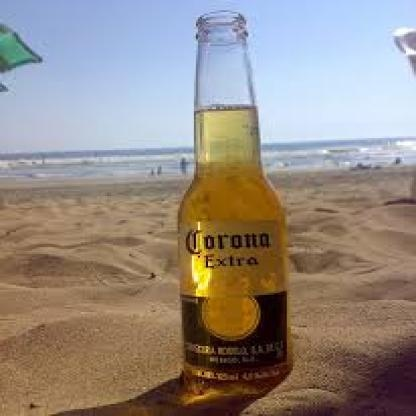trash: (179, 11, 287, 383)
